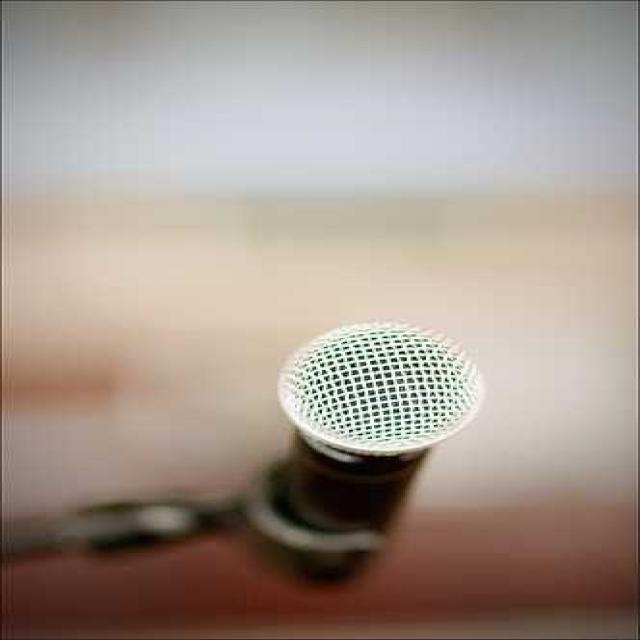microphone: (252, 316, 486, 582)
